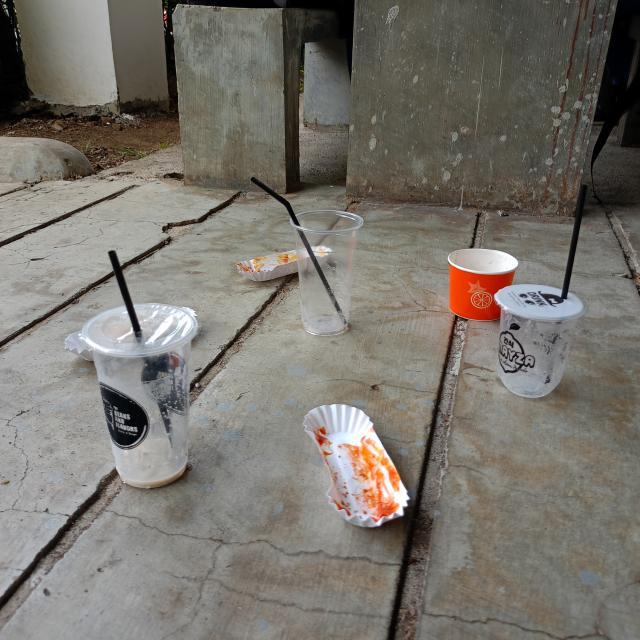recyclable waste: (66, 287, 214, 515), (278, 394, 447, 542), (281, 200, 386, 356), (484, 275, 598, 412), (436, 242, 524, 330), (234, 238, 346, 298), (54, 321, 114, 381)
